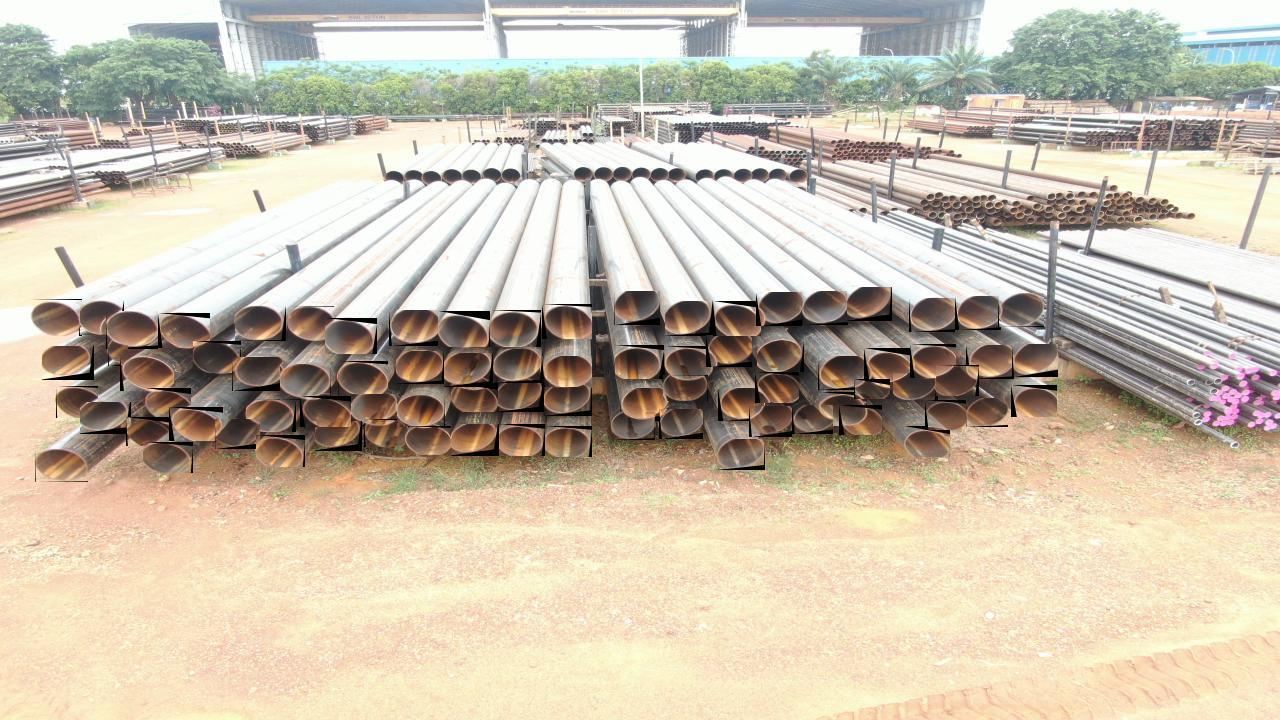pipe: (105, 311, 158, 349), (31, 299, 82, 336), (490, 310, 541, 347), (325, 318, 377, 354), (438, 311, 490, 347), (120, 357, 174, 391), (169, 407, 223, 441), (280, 364, 331, 400), (158, 313, 210, 348), (389, 310, 439, 346), (235, 306, 286, 341), (42, 346, 94, 380), (338, 361, 388, 396), (542, 304, 592, 339), (35, 449, 88, 482), (232, 357, 283, 391), (494, 349, 543, 384), (542, 356, 592, 390), (818, 356, 868, 390), (665, 301, 713, 336), (714, 301, 762, 336), (444, 353, 493, 387), (615, 345, 664, 379), (664, 346, 713, 380), (246, 399, 296, 432), (287, 306, 334, 341), (80, 402, 131, 434), (819, 392, 867, 426), (864, 348, 912, 382), (966, 346, 1014, 380), (620, 388, 669, 421), (396, 351, 444, 384), (300, 396, 351, 427), (256, 435, 305, 467), (351, 394, 400, 426), (756, 292, 802, 326), (910, 344, 956, 378), (909, 298, 955, 332), (955, 296, 1001, 330), (998, 293, 1044, 327), (143, 442, 193, 473), (80, 300, 124, 335), (193, 342, 241, 374), (398, 395, 446, 427), (451, 424, 499, 456), (847, 288, 892, 322), (614, 292, 660, 325), (718, 388, 764, 421), (802, 292, 848, 325), (1012, 344, 1058, 377), (757, 340, 804, 372), (717, 439, 765, 470), (499, 424, 545, 456), (706, 335, 752, 367), (1011, 385, 1057, 417), (545, 426, 592, 457), (145, 388, 191, 419), (904, 426, 950, 457), (315, 421, 362, 451), (405, 426, 453, 455), (544, 387, 592, 416), (56, 386, 98, 419), (498, 382, 544, 412), (755, 372, 799, 403), (451, 383, 498, 412), (215, 419, 260, 449), (749, 406, 792, 437), (936, 365, 979, 396), (659, 409, 703, 439), (839, 405, 882, 435), (364, 419, 409, 447), (925, 400, 967, 430), (126, 417, 169, 446), (611, 412, 655, 440), (966, 398, 1008, 427), (893, 373, 938, 400), (792, 405, 833, 434), (663, 375, 708, 401), (854, 379, 890, 399), (108, 340, 128, 366)
